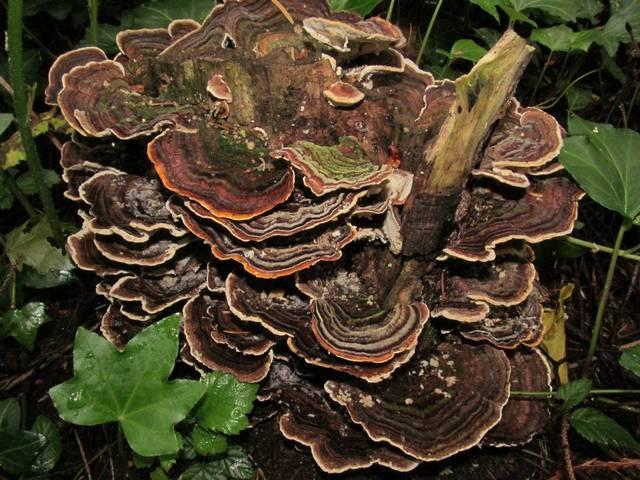poisonous_mushroom: (43, 0, 584, 475)
